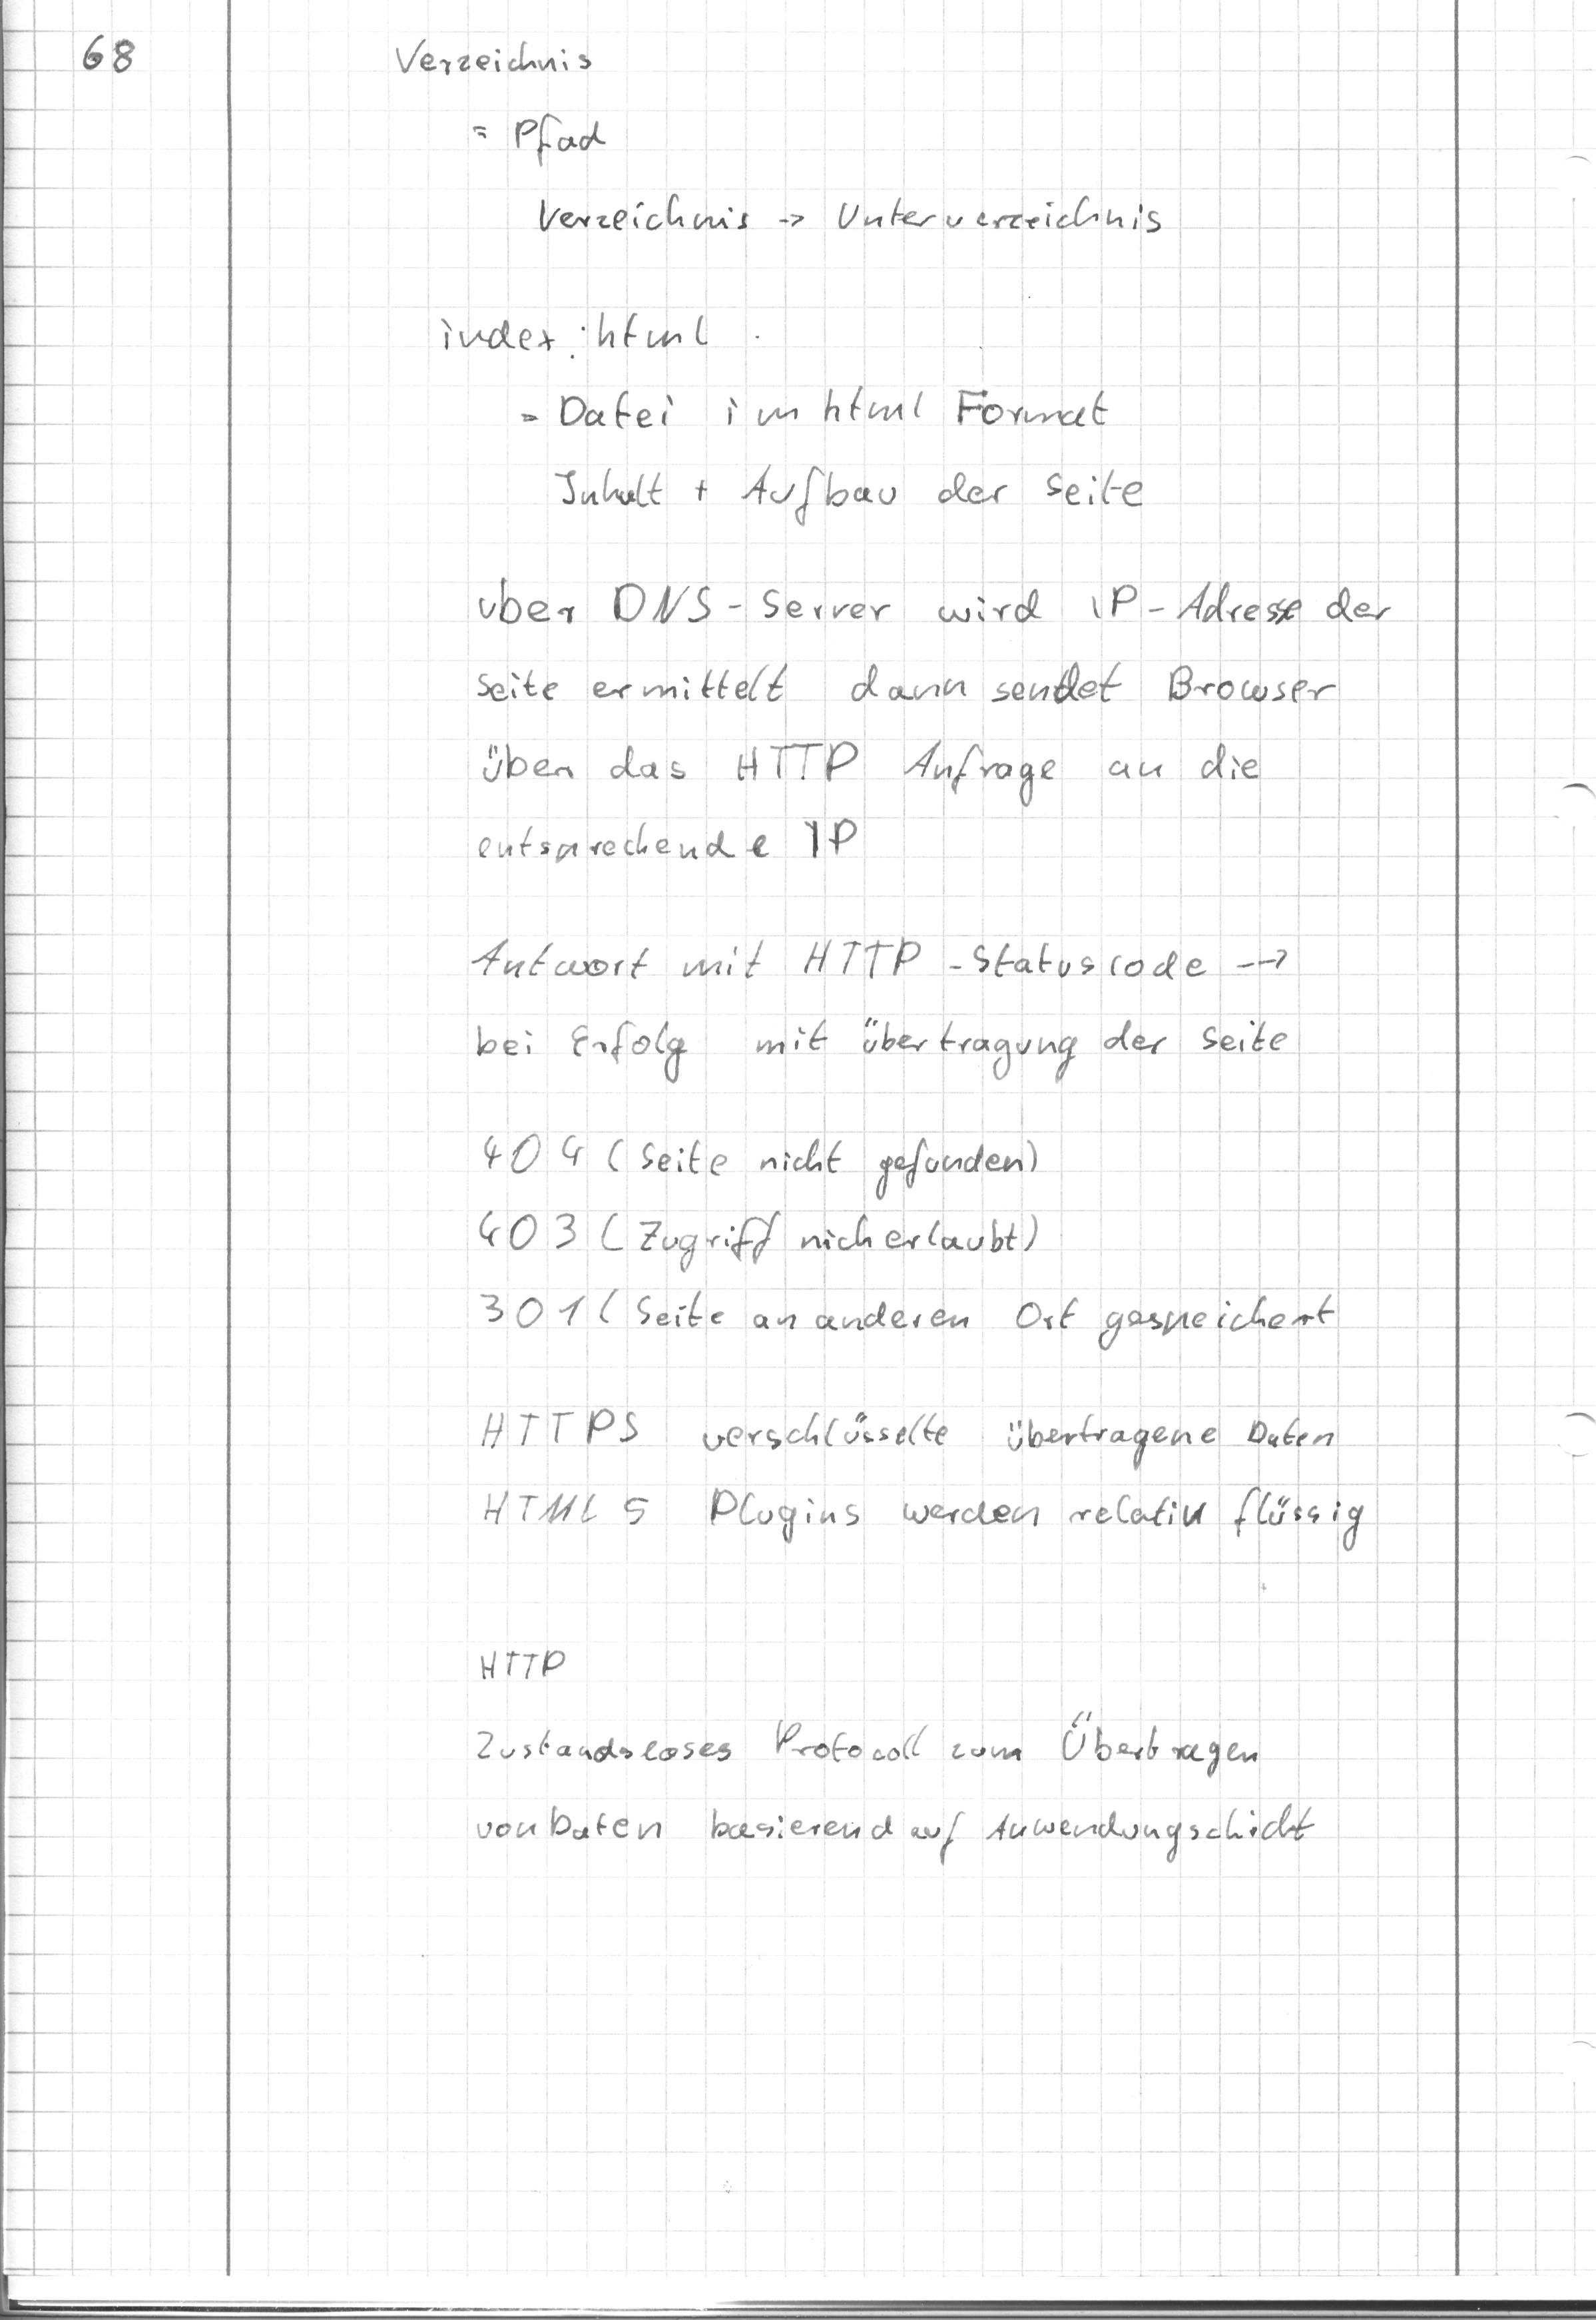word: (469, 560, 1410, 880), (465, 1115, 1345, 1363), (463, 1641, 1322, 1879), (423, 292, 1161, 528), (388, 29, 1174, 246), (470, 1386, 1375, 1568), (463, 926, 1310, 1094)
